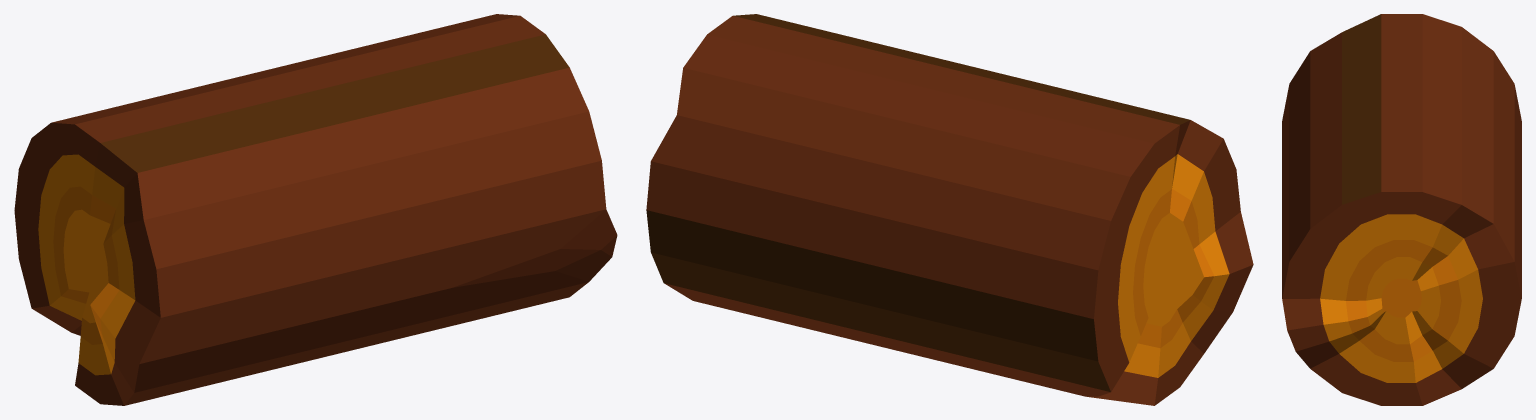
File: Broken log_26.fbx
3 renders of one model, left to right at view 1: azimuth 30°, elevation 25°; view 2: azimuth 150°, elevation 25°; view 3: azimuth 270°, elevation 25°, orthographic. The views are drawn at different scales.
Visible parts, largest first — view 1: Circle.411; view 2: Circle.411; view 3: Circle.411.
Boxes of the visible parts, x1,y1,x2,y2 form: Circle.411: (14, 14, 617, 405); Circle.411: (646, 14, 1253, 405); Circle.411: (1282, 14, 1521, 405).
Bounding box in the file's own units: 48.11 × 25.19 × 25.57.
